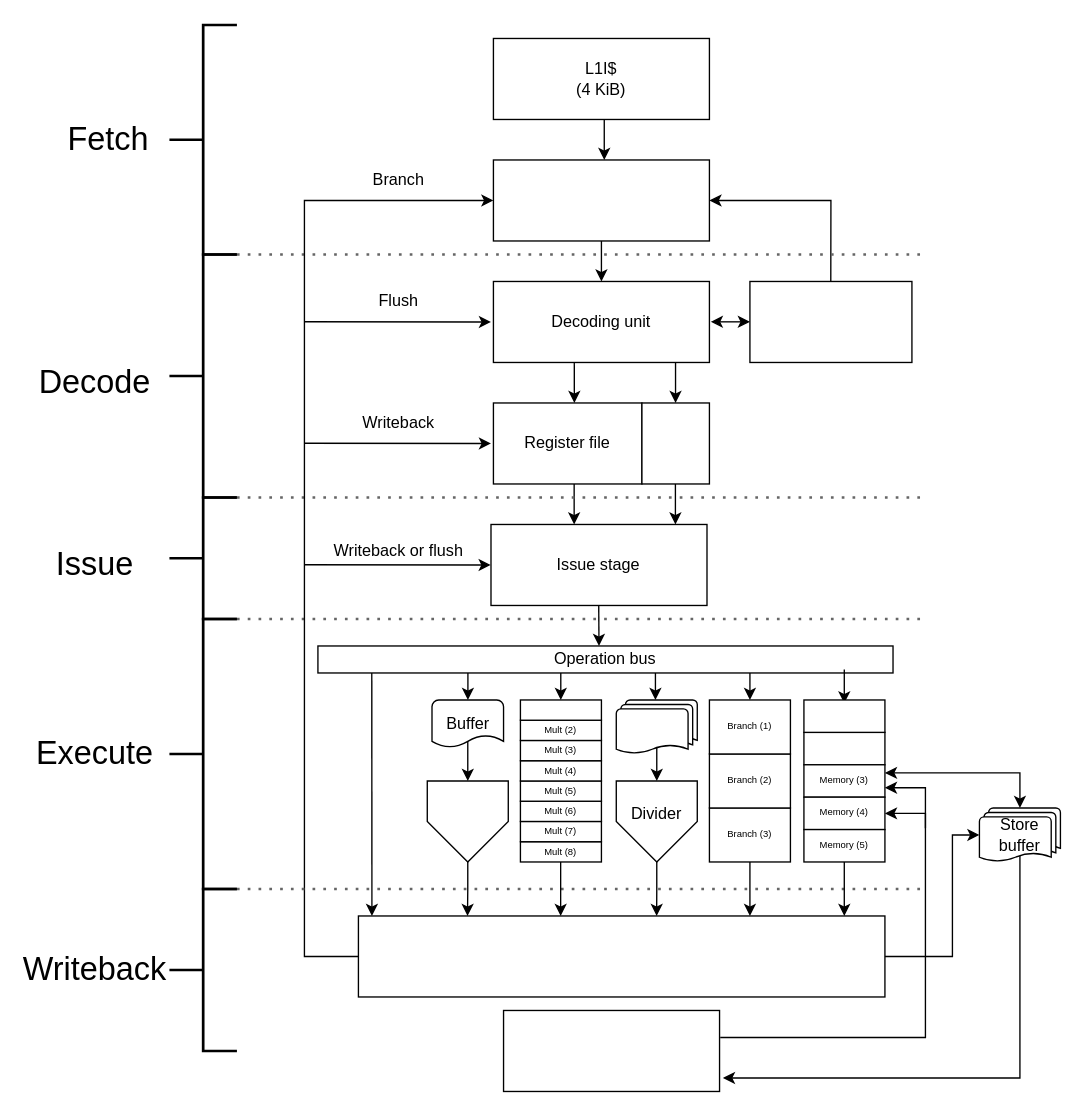
This 1084x1115 diagram has some shape labels left out. Here are the shapes that lost their labels. From the top down, the centre of each, then its label:
At (x=600, y=200): "Fetching unit".
At (x=830, y=321): "Branch prediction unit".
At (x=675, y=443): "Scoreboard".
At (x=560, y=709): "Mult (1)".
At (x=656, y=726): "FIFO".
At (x=844, y=715): "Memory (1)".
At (x=844, y=748): "Memory (2)".
At (x=467, y=821): "ALU".
At (x=621, y=956): "ROB (32 entries)".
At (x=611, y=1050): "L1D$ (4 KiB)".
